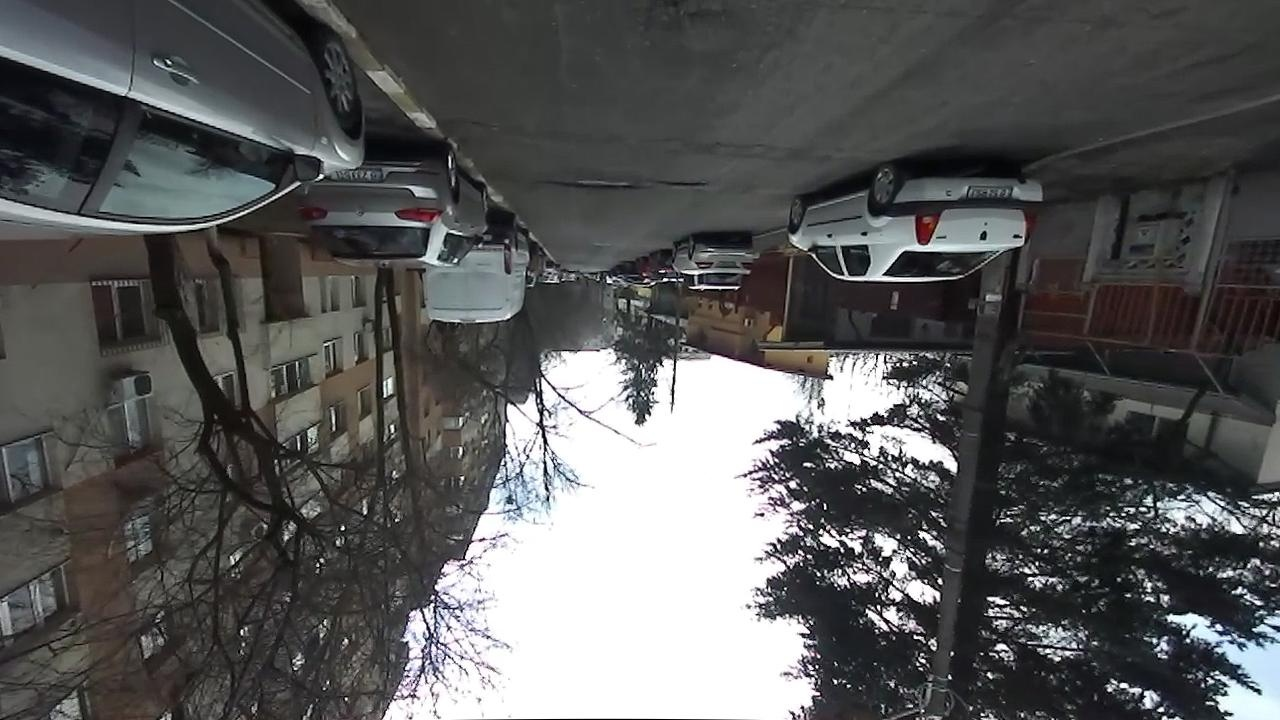pothole: (652, 2, 733, 26), (545, 174, 641, 191), (655, 177, 708, 190)
